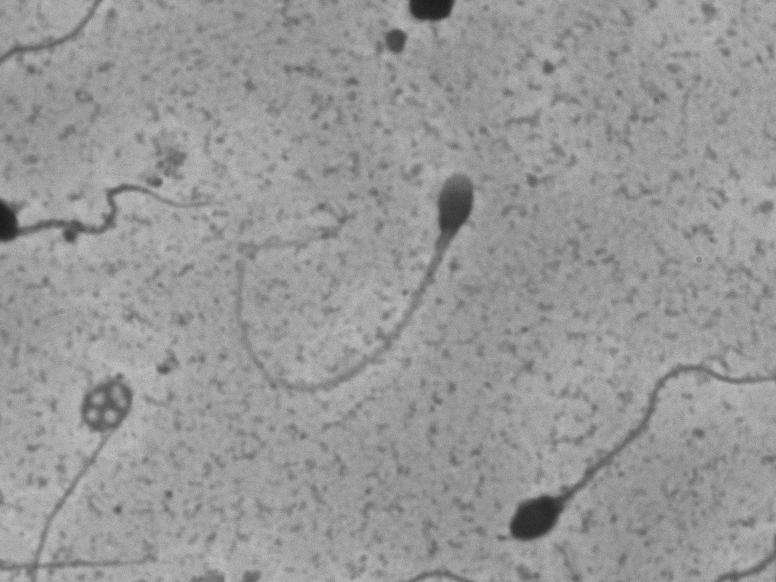Normal: (198, 146, 508, 411), (487, 322, 768, 554)
